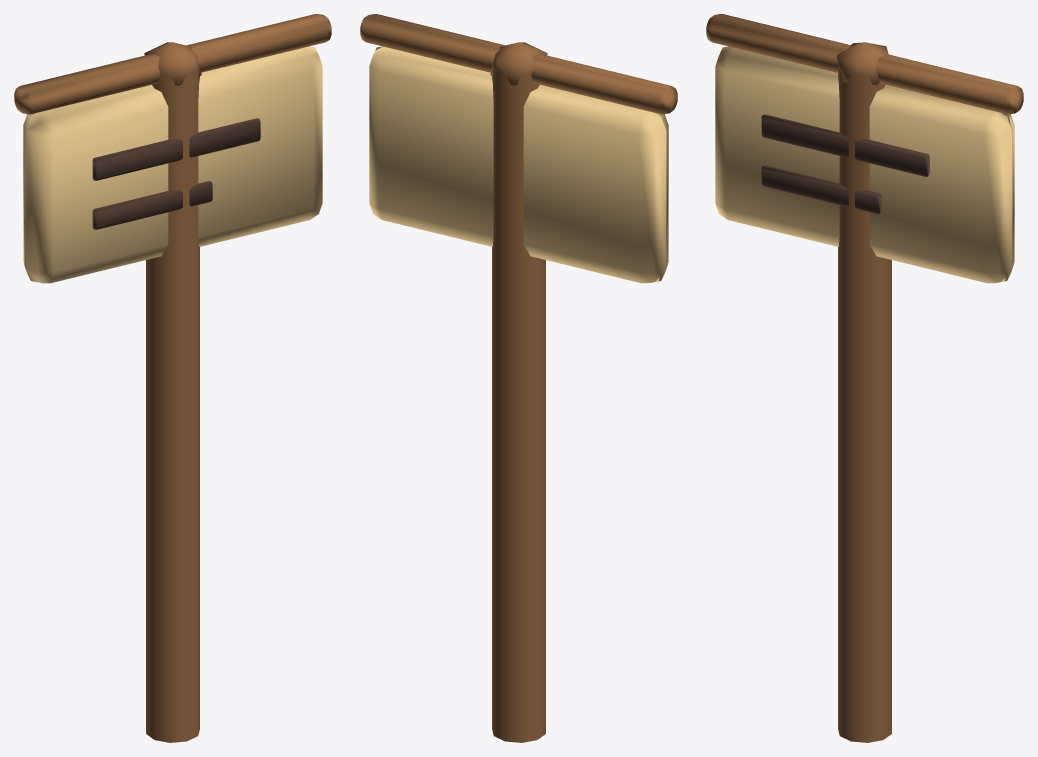
File: v_signpost.glb
The picture shows the model from 3 angles, left to right: view 1: azimuth 30°, elevation 25°; view 2: azimuth 150°, elevation 25°; view 3: azimuth 330°, elevation 25°; orthographic projection.
Visible parts, largest first — view 1: Signpost; view 2: Signpost; view 3: Signpost.
Boxes of the visible parts, x1=… form: Signpost: x1=14, y1=14, x2=331, y2=742; Signpost: x1=360, y1=14, x2=677, y2=742; Signpost: x1=706, y1=14, x2=1023, y2=742.
Bounding box in the file's own units: 0.78 × 1.65 × 0.12.
